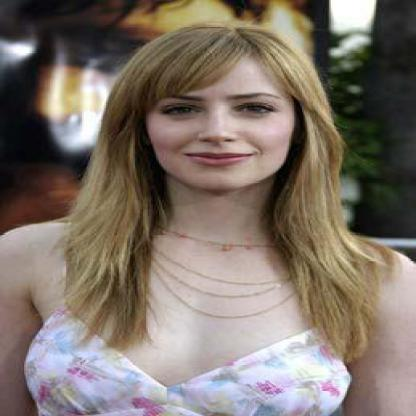long-hair: (63, 192, 368, 236)
